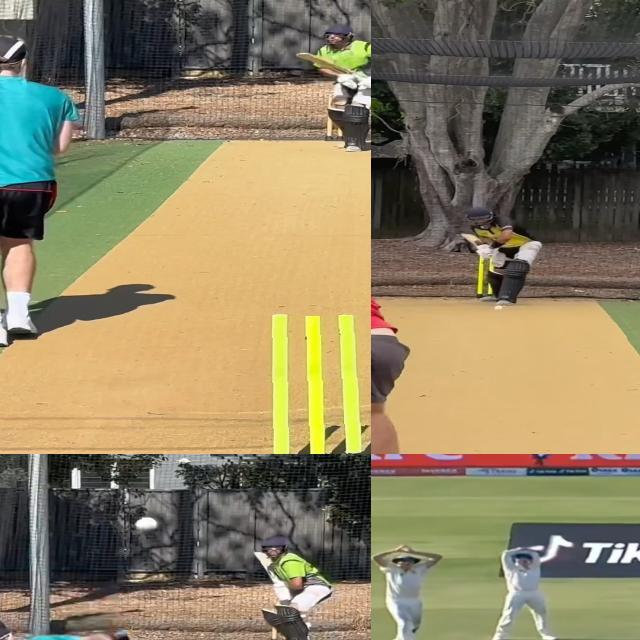Cricket ball: (133, 516, 159, 534), (494, 303, 505, 313)
Stumps: (252, 316, 371, 454)
